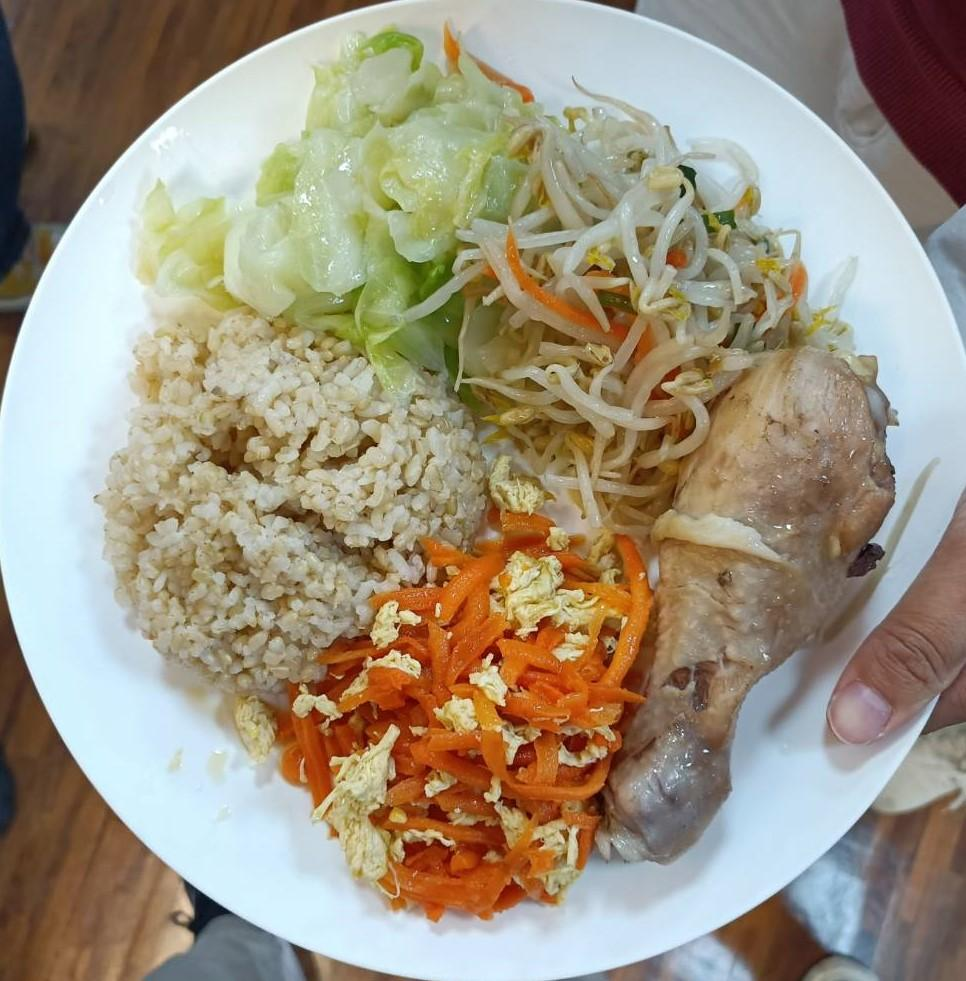big fried chicken leg: (2, 10, 966, 981)
box: (98, 328, 503, 701)
braised fish fillet: (282, 524, 650, 921), (133, 28, 532, 366), (487, 100, 794, 516)
braised pork: (597, 332, 902, 866)
